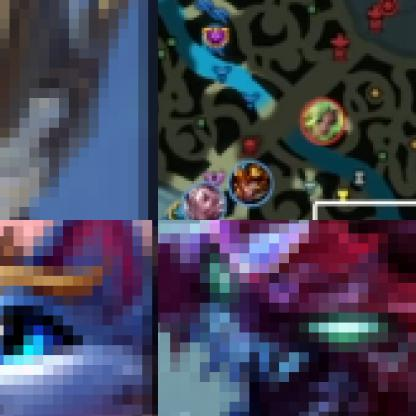Choundefinedgath: (158, 220, 415, 415)
Galio: (0, 0, 157, 219)
Jarvan IV: (230, 161, 273, 205)
Rakan: (184, 182, 227, 219)
Yuumi: (0, 220, 157, 415)
Zeri: (299, 99, 346, 146)
